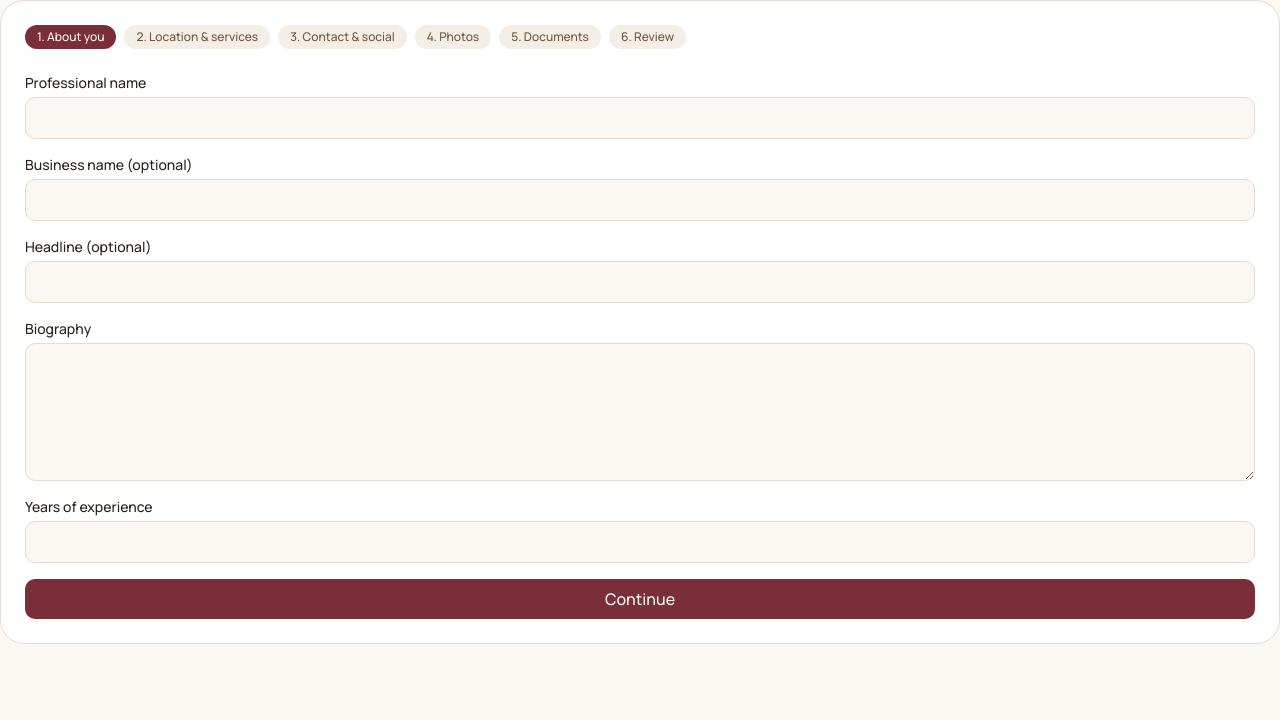
Test: OnboardingWizard › saves the current step and advances to the next one
Type "Priya" into the field labelled "Professional name" at (640, 118), box [25, 97, 1255, 139]
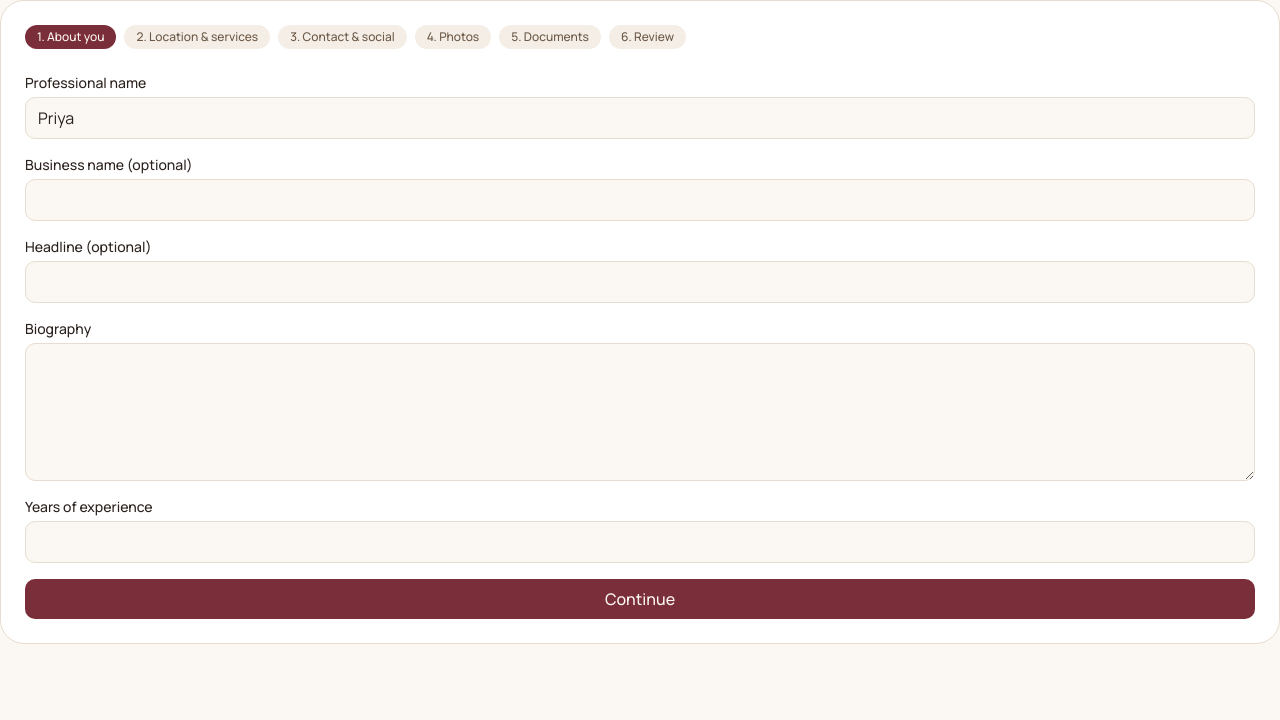
Click the button "Continue" at (640, 599), box [25, 579, 1255, 619]
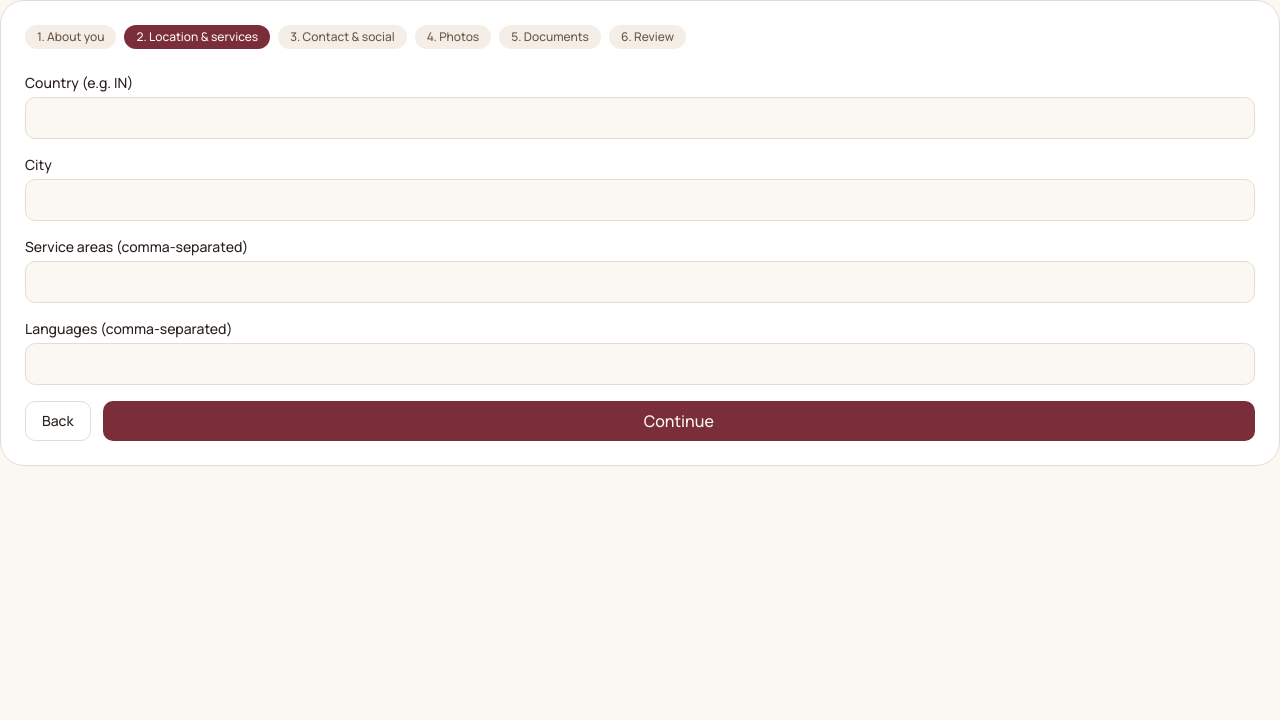
Expected: the text "Country (e.g. IN)" is shown, [25, 73, 133, 92]
